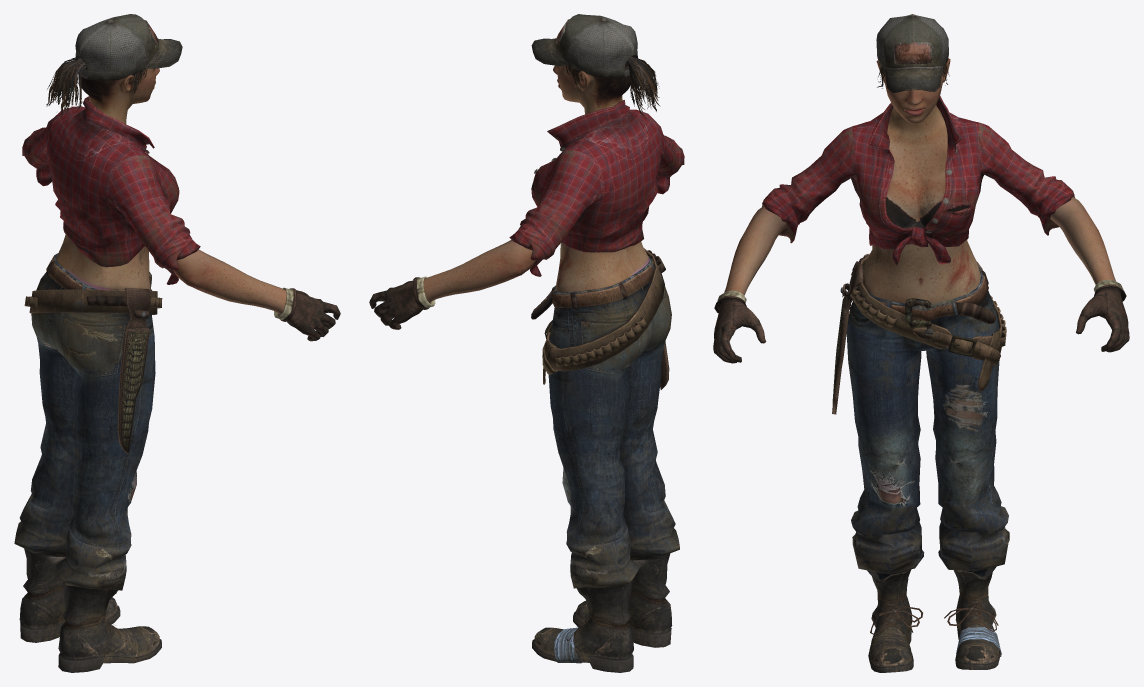
Rendered from Misty.obj.
3 renders of one model, left to right at view 1: azimuth 30°, elevation 25°; view 2: azimuth 150°, elevation 25°; view 3: azimuth 270°, elevation 25°, orthographic. The views are drawn at different scales.
Parts seen in each view (by area): view 1: TomGroup_0, TomGroup_5, TomGroup_3, TomGroup_4, TomGroup_10, TomGroup_7, TomGroup_2, TomGroup_9, TomGroup_1; view 2: TomGroup_0, TomGroup_5, TomGroup_3, TomGroup_10, TomGroup_7, TomGroup_2, TomGroup_9, TomGroup_1; view 3: TomGroup_0, TomGroup_10, TomGroup_3, TomGroup_5, TomGroup_2, TomGroup_7, TomGroup_1, TomGroup_4.
Boxes of the visible parts, left/top/right/bottom form: TomGroup_0: left=14, top=96, right=200, bottom=672; TomGroup_5: left=75, top=14, right=182, bottom=80; TomGroup_3: left=173, top=249, right=286, bottom=314; TomGroup_4: left=117, top=288, right=150, bottom=453; TomGroup_10: left=56, top=152, right=150, bottom=290; TomGroup_7: left=81, top=57, right=159, bottom=124; TomGroup_2: left=274, top=287, right=340, bottom=341; TomGroup_9: left=46, top=57, right=147, bottom=117; TomGroup_1: left=46, top=261, right=151, bottom=306; TomGroup_0: left=509, top=100, right=684, bottom=672; TomGroup_5: left=531, top=14, right=638, bottom=78; TomGroup_3: left=423, top=240, right=535, bottom=302; TomGroup_10: left=555, top=241, right=649, bottom=292; TomGroup_7: left=553, top=49, right=633, bottom=114; TomGroup_2: left=369, top=276, right=435, bottom=329; TomGroup_9: left=566, top=56, right=660, bottom=118; TomGroup_1: left=531, top=250, right=665, bottom=319; TomGroup_0: left=762, top=96, right=1074, bottom=672; TomGroup_10: left=863, top=157, right=980, bottom=303; TomGroup_3: left=724, top=197, right=1115, bottom=295; TomGroup_5: left=876, top=14, right=948, bottom=92; TomGroup_2: left=713, top=279, right=1129, bottom=363; TomGroup_7: left=883, top=56, right=947, bottom=162; TomGroup_1: left=851, top=254, right=995, bottom=328; TomGroup_4: left=832, top=263, right=863, bottom=414.
Size of the model in its own units: 62.31 by 180 by 105.
Materials: 12 (12 with a texture image).
